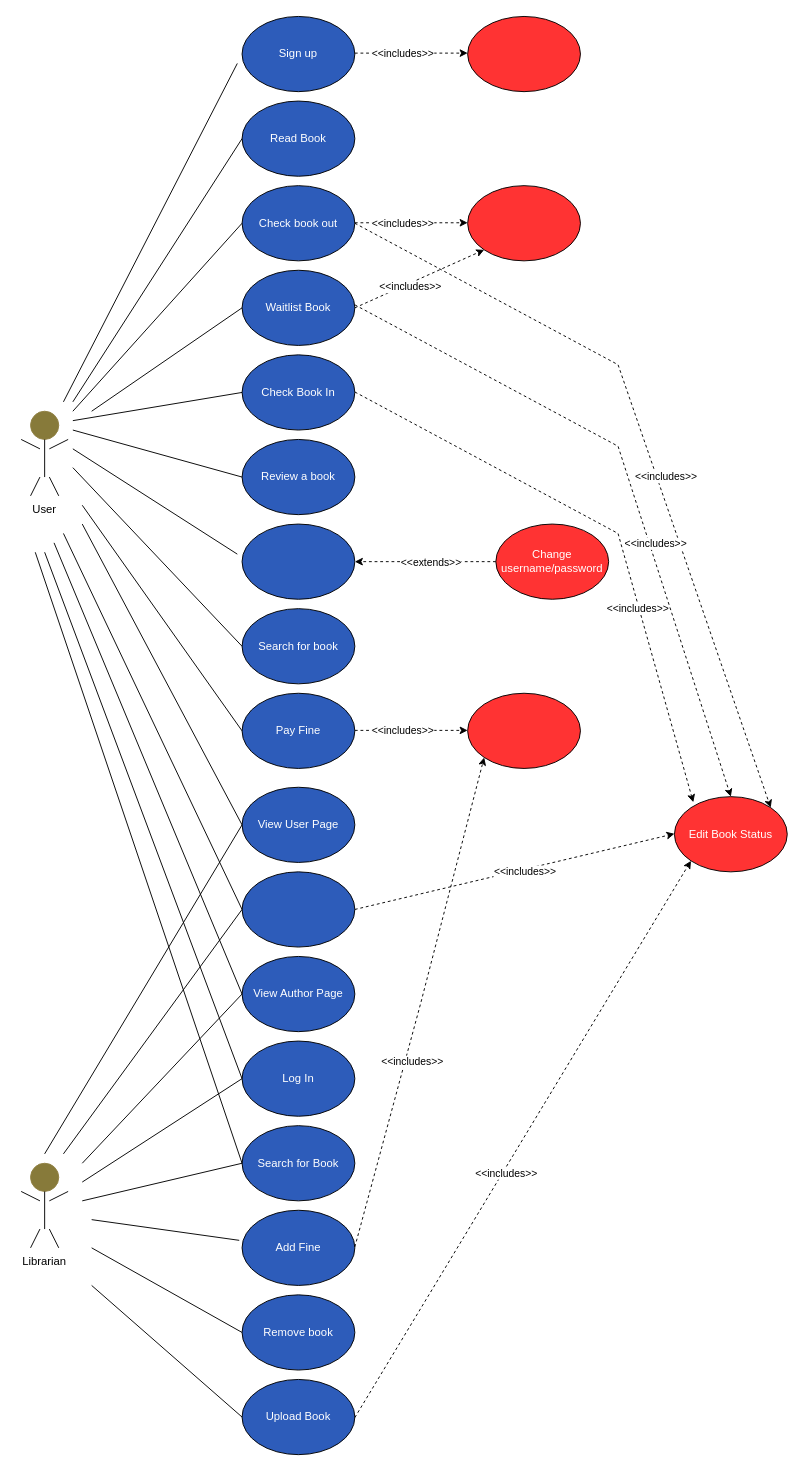
Image size: 804x1471. Some labels were removed from this diagram. Here are the shapes that lost their labels. From the top down, the box of each, then its label:
(467, 16, 580, 92): Create Username/Password
(467, 185, 580, 261): Verify availability
(241, 523, 355, 599): Edit Profile
(467, 692, 580, 768): Edit fines
(241, 871, 355, 947): Mark a book as lost
